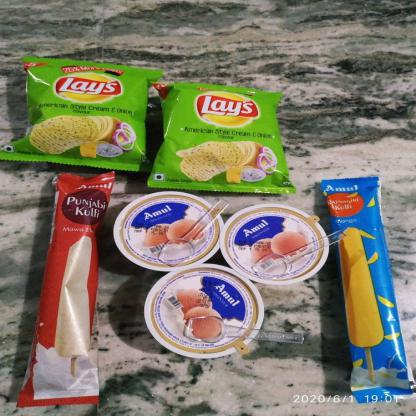cream_and_onion: (0, 55, 164, 173), (147, 81, 296, 197)
